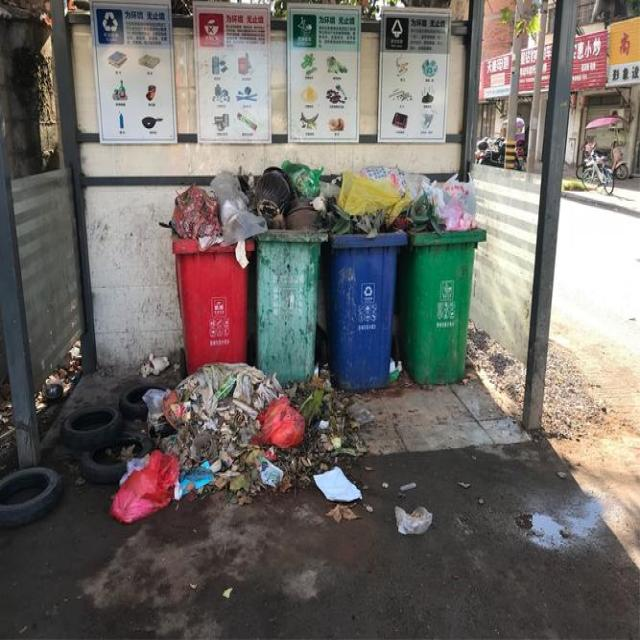garbage: (107, 353, 431, 535)
overflow: (394, 169, 486, 383), (158, 173, 254, 374), (322, 168, 407, 390), (252, 160, 328, 380)
